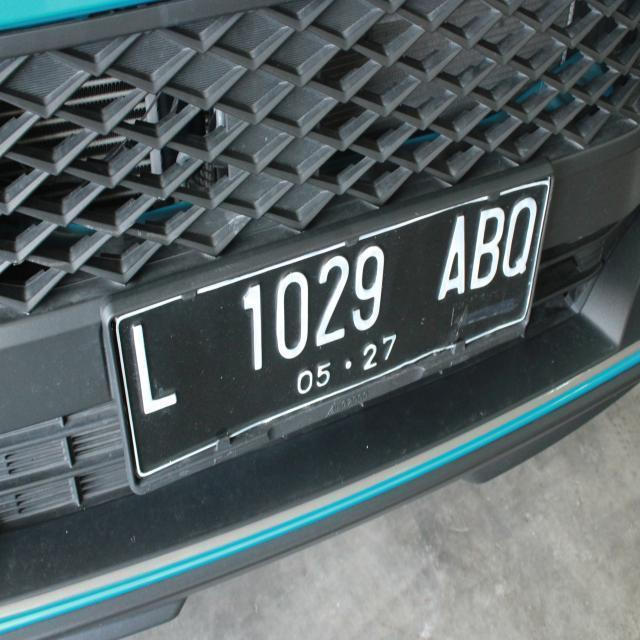0: (269, 274, 315, 368)
1: (219, 274, 270, 384)
2: (305, 248, 350, 349)
9: (347, 237, 387, 333)
A: (434, 198, 472, 314)
B: (467, 192, 505, 296)
L: (110, 307, 192, 423)
Q: (499, 192, 539, 290)
